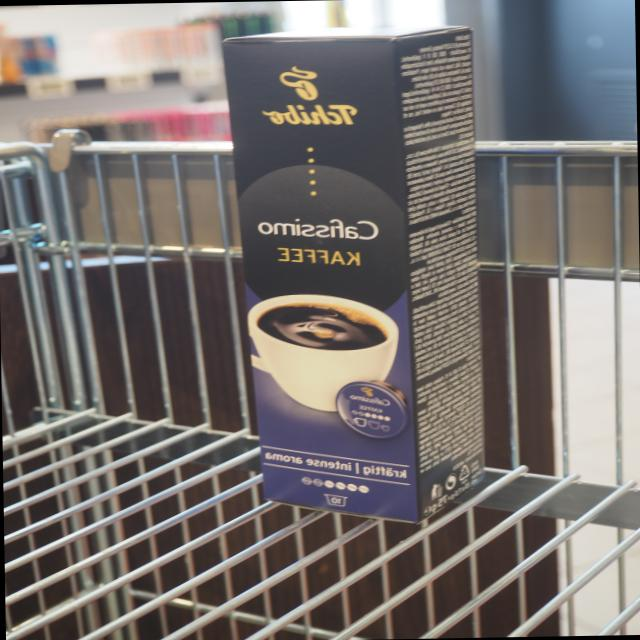Simo Kaffee Kraft: (209, 21, 497, 537)
